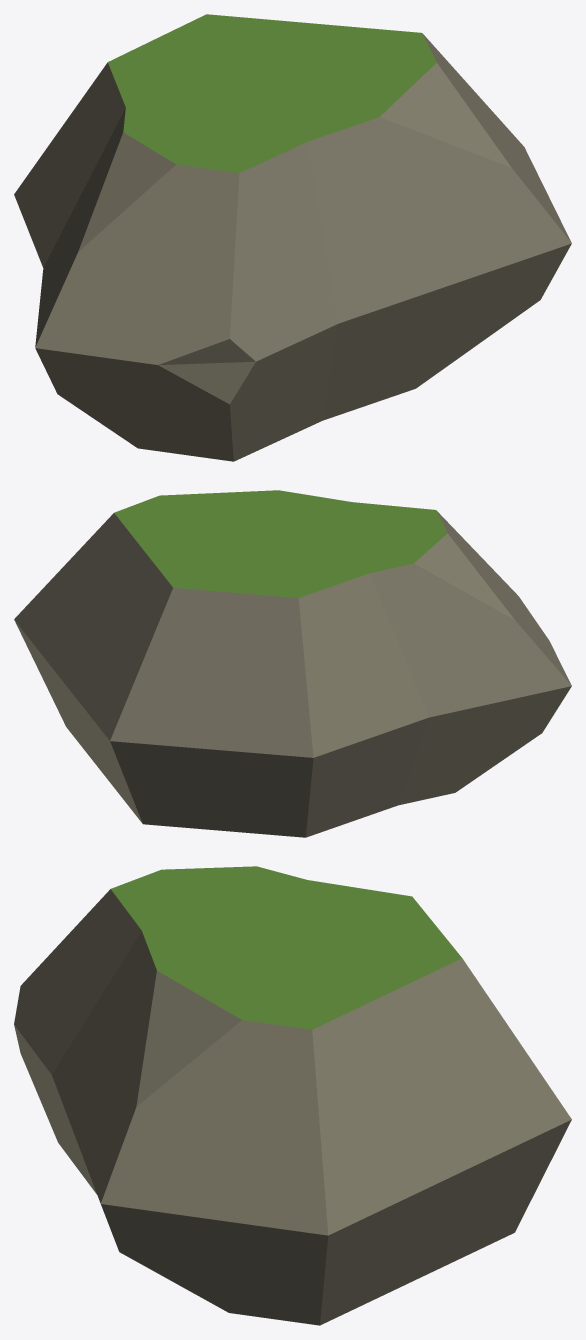
The model's file is rock_c.glb.
3 renders of one model, top to bottom at view 1: azimuth 30°, elevation 25°; view 2: azimuth 150°, elevation 25°; view 3: azimuth 270°, elevation 25°, orthographic. The views are drawn at different scales.
Parts seen in each view (by area): view 1: rock_largeF; view 2: rock_largeF; view 3: rock_largeF.
Part boxes in pixels (x1=…): rock_largeF: x1=14, y1=14, x2=571, y2=461; rock_largeF: x1=14, y1=490, x2=571, y2=837; rock_largeF: x1=14, y1=866, x2=571, y2=1325.
Size of the model in its own units: 1.1 by 0.479 by 0.899.
